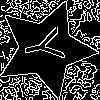Y: (21, 24, 75, 67)
